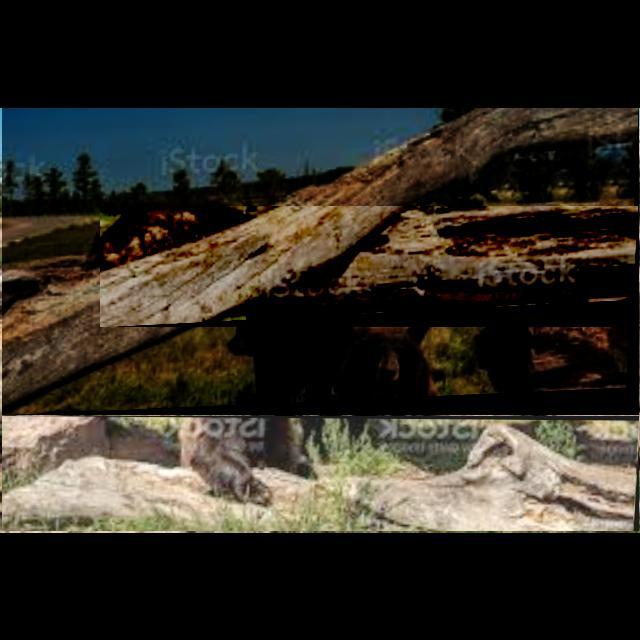fallen_tree: (2, 108, 640, 416), (2, 416, 640, 532), (100, 206, 640, 328)
